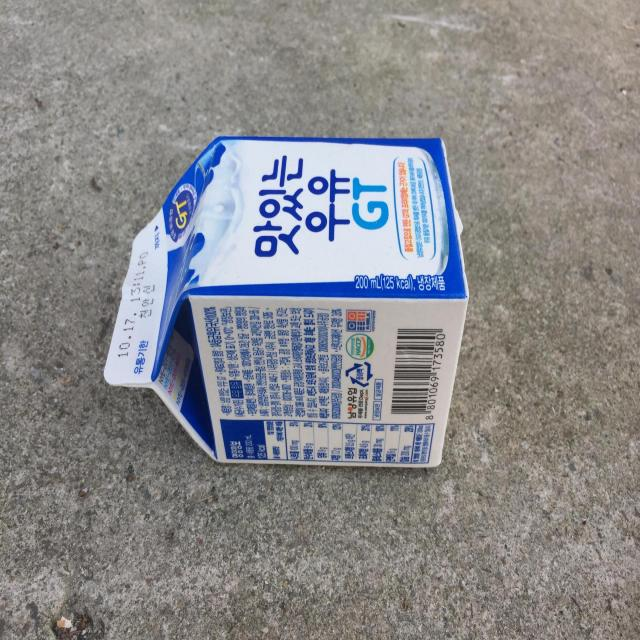paperpack: (104, 137, 469, 467)
